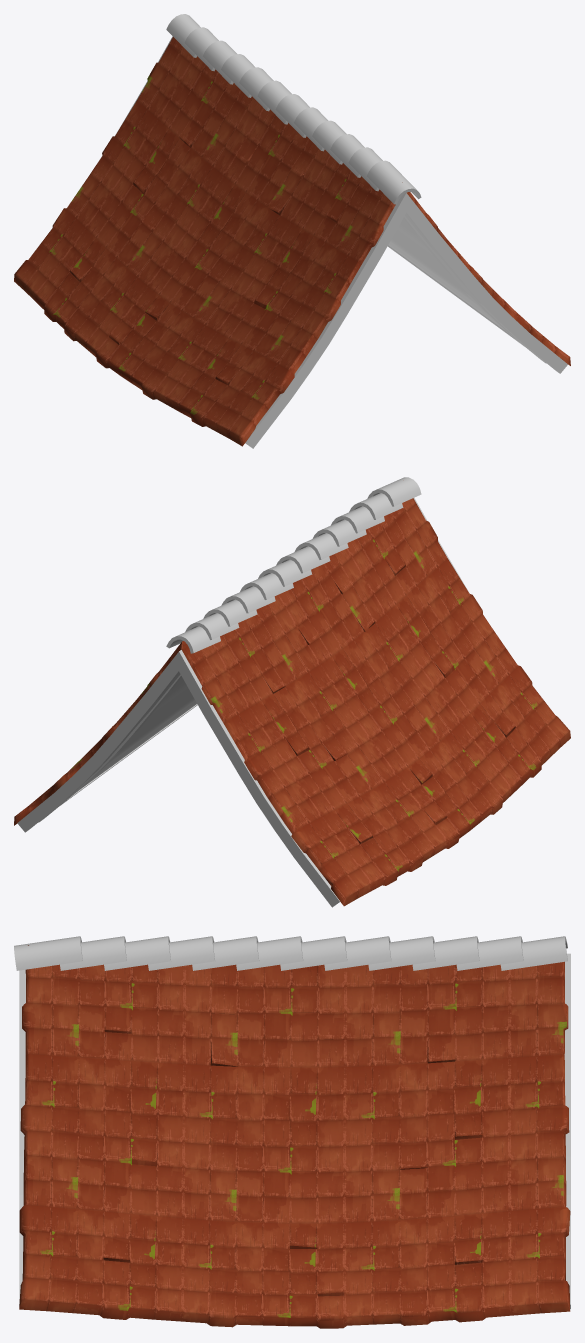
The model's file is Roof_FlatTiles_6x8.fbx.
3 views of the same model, one above another, from view 1: azimuth 30°, elevation 25°; view 2: azimuth 150°, elevation 25°; view 3: azimuth 270°, elevation 25° (orthographic). The views are drawn at different scales.
Parts seen in each view (by area): view 1: Roof_FlatTiles_6x8; view 2: Roof_FlatTiles_6x8; view 3: Roof_FlatTiles_6x8.
Boxes of the visible parts, box(x1,y1,x2,y2) form: Roof_FlatTiles_6x8: box(14, 14, 570, 448); Roof_FlatTiles_6x8: box(14, 477, 570, 907); Roof_FlatTiles_6x8: box(14, 936, 570, 1328).
Size of the model in its own units: 872 by 556 by 978.
